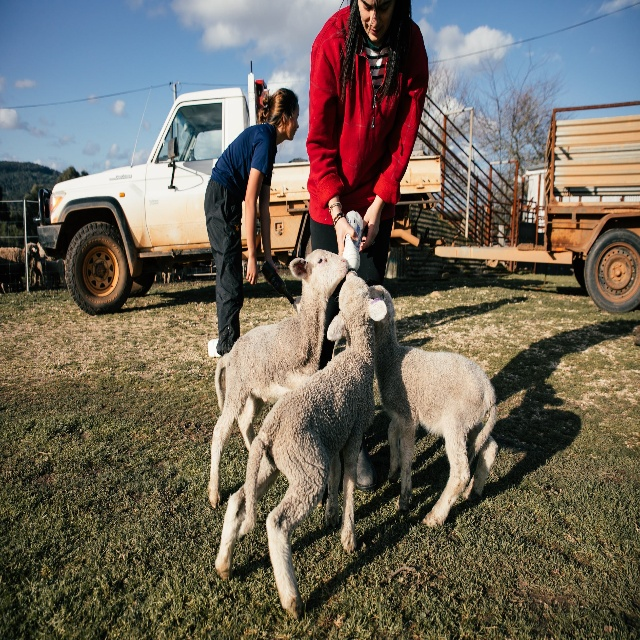Sin_guantes: (360, 202, 382, 250), (336, 212, 359, 253), (246, 253, 259, 283), (266, 250, 276, 269)
